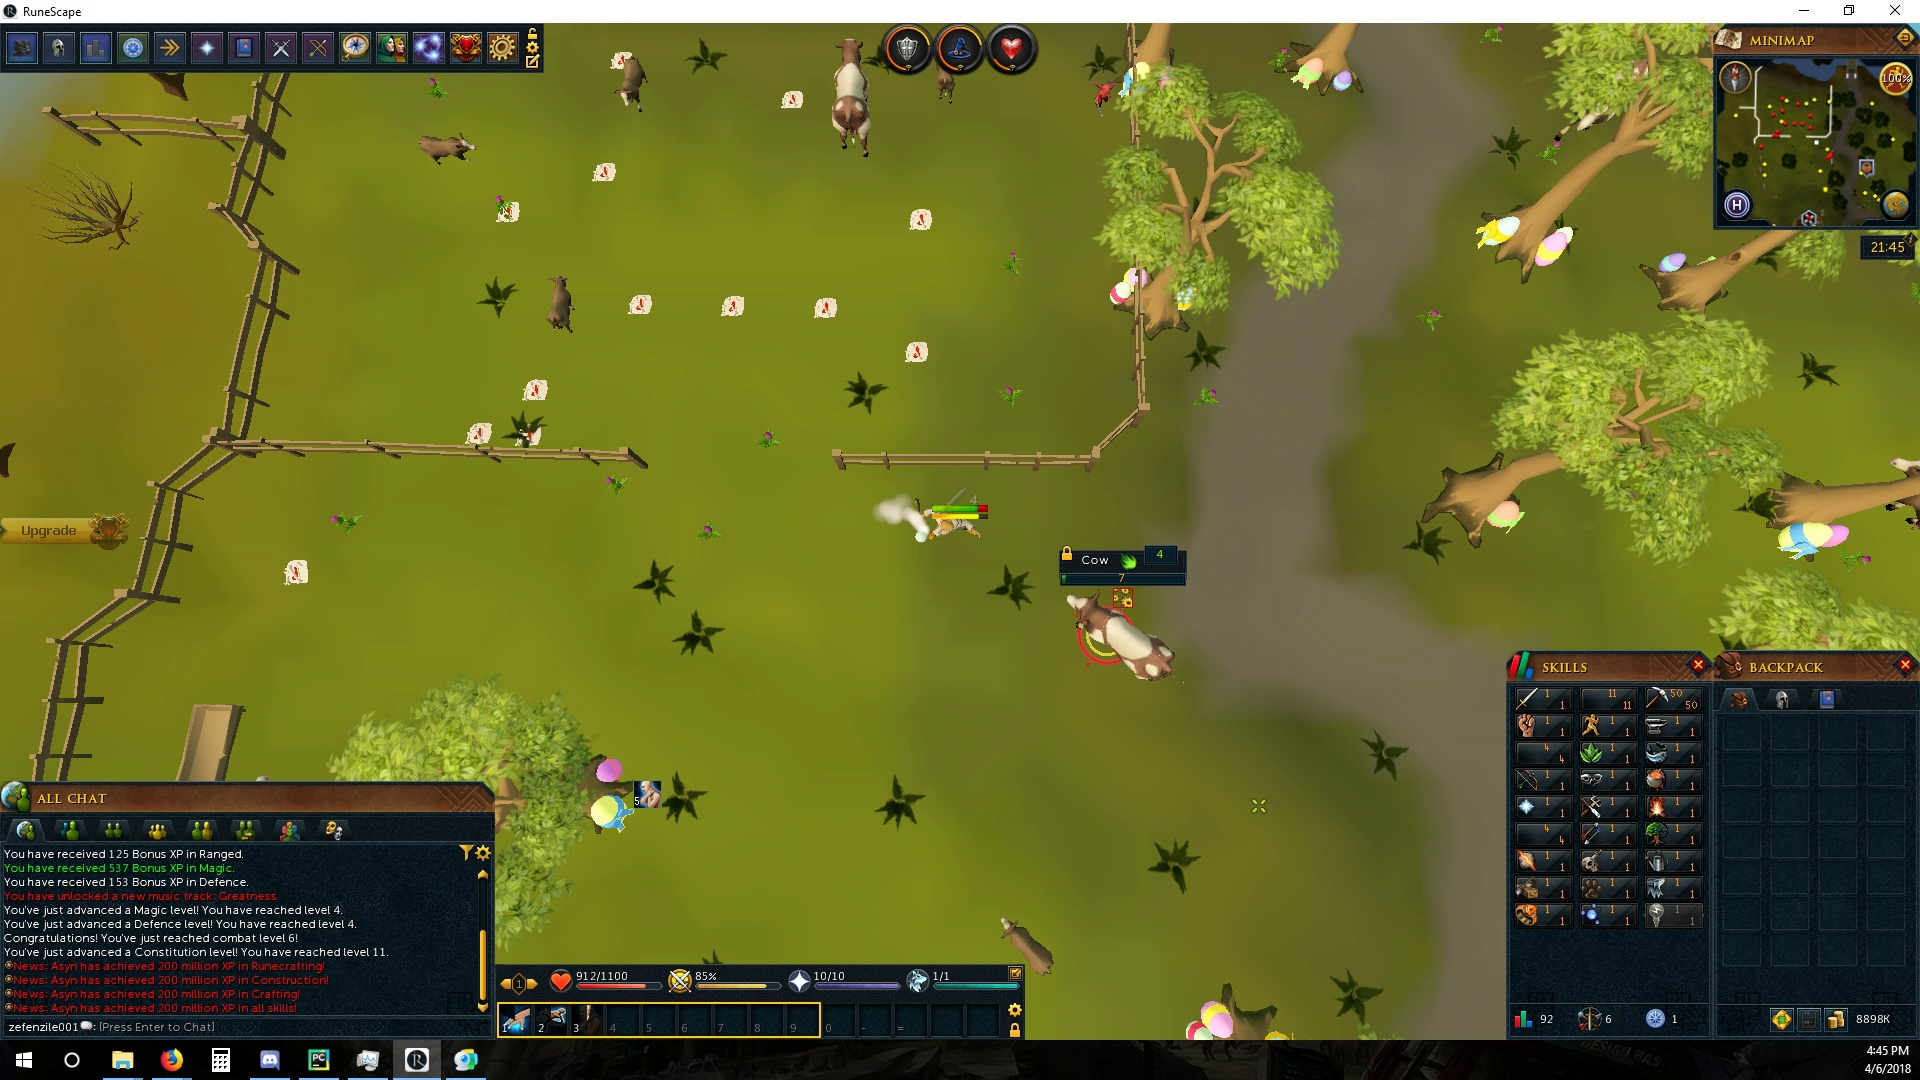calf: (997, 919, 1058, 980), (611, 53, 650, 116), (542, 270, 580, 334), (418, 131, 480, 166), (928, 65, 960, 109)
cow: (1060, 589, 1176, 682), (824, 33, 876, 164)
cow_drop: (506, 422, 549, 448), (491, 198, 527, 225), (716, 290, 749, 318), (459, 423, 497, 447), (518, 376, 553, 402), (280, 558, 311, 585), (585, 160, 618, 185), (777, 86, 810, 111), (626, 290, 655, 318), (901, 338, 932, 363), (910, 204, 936, 233), (812, 295, 839, 319)
